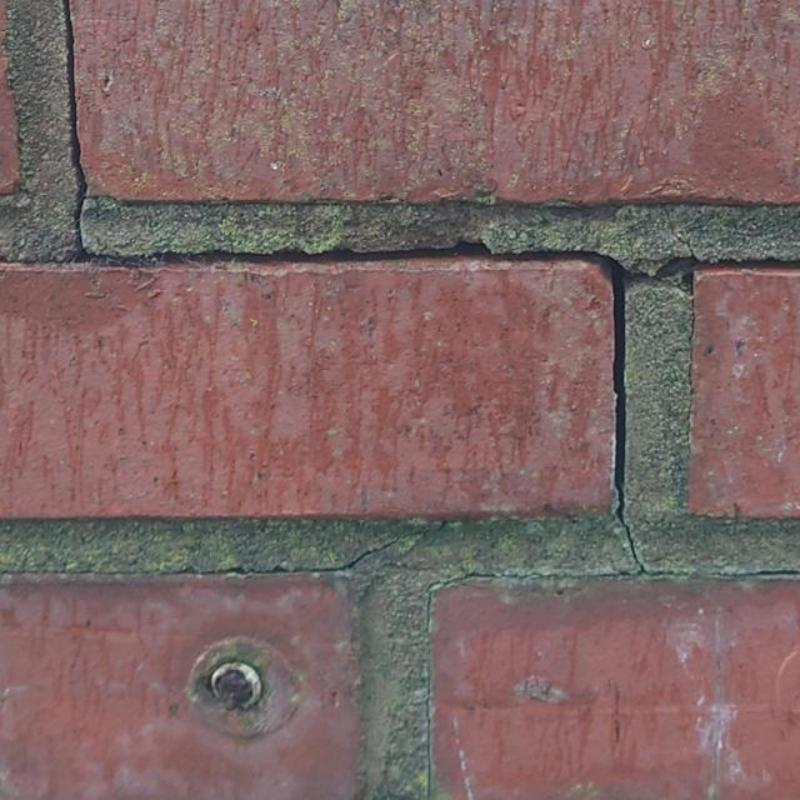pothole: (62, 1, 647, 573), (625, 204, 799, 445), (1, 520, 445, 575), (424, 570, 688, 629), (0, 256, 68, 264), (710, 570, 799, 576)
